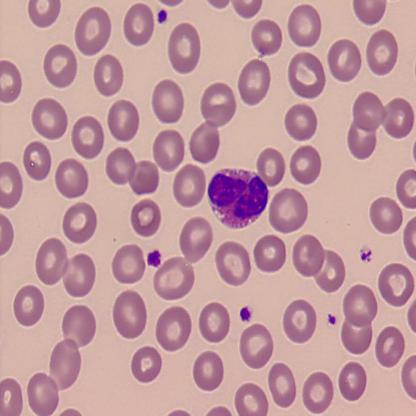Eosinophil: (209, 166, 268, 230)
